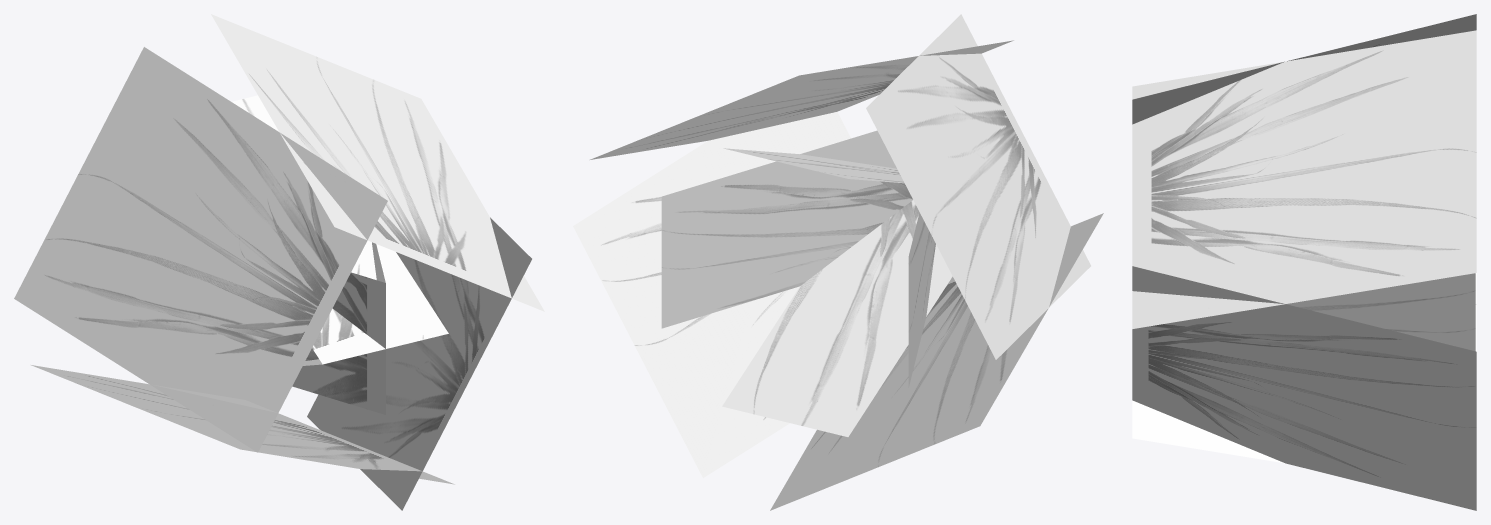
Rendered from Grass.fbx.
The picture shows the model from 3 angles, left to right: view 1: azimuth 30°, elevation 25°; view 2: azimuth 150°, elevation 25°; view 3: azimuth 270°, elevation 25°; orthographic projection.
Parts seen in each view (by area): view 1: Grass_01; view 2: Grass_01; view 3: Grass_01.
Boxes of the visible parts, x1=… form: Grass_01: x1=14, y1=14, x2=544, y2=510; Grass_01: x1=573, y1=14, x2=1103, y2=510; Grass_01: x1=1132, y1=14, x2=1476, y2=510.
Bounding box in the file's own units: 168 × 168 × 116.
